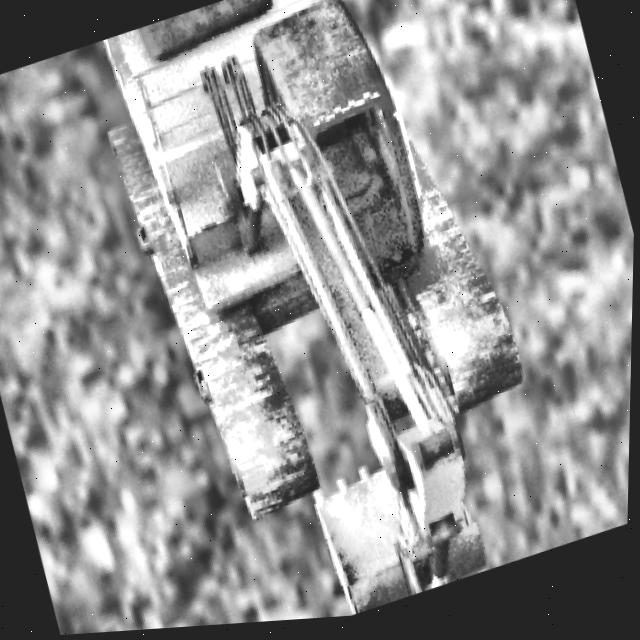excavator: (75, 0, 576, 635)
